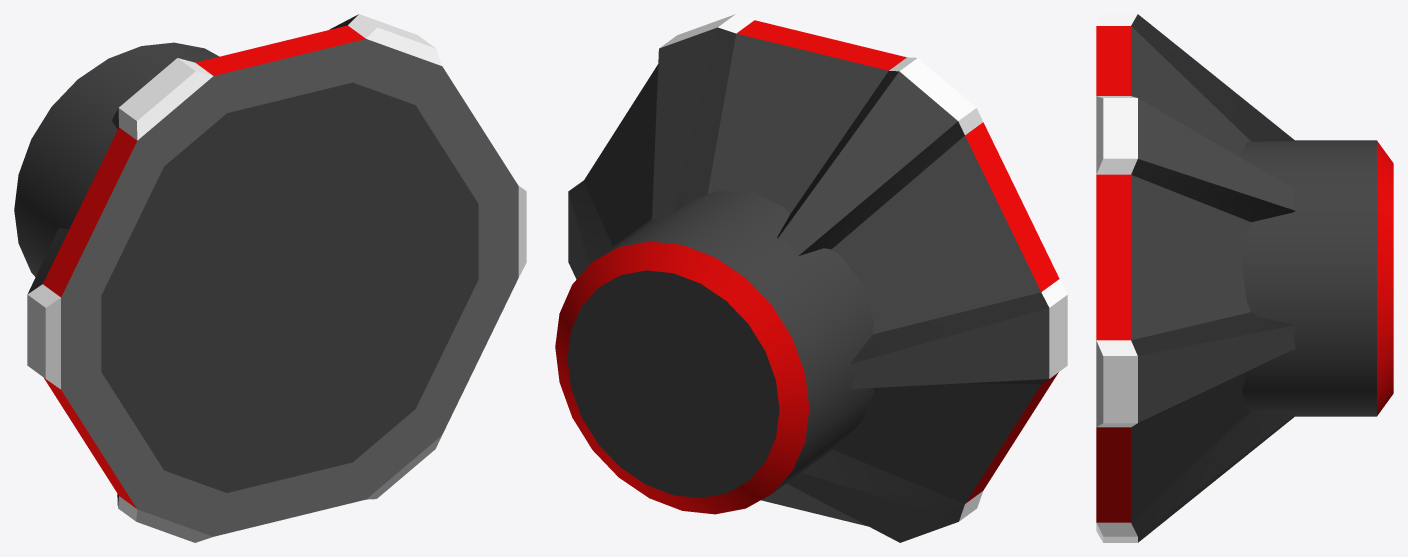
Rendered from foundation.obj.
The picture shows the model from 3 angles, left to right: view 1: azimuth 30°, elevation 25°; view 2: azimuth 150°, elevation 25°; view 3: azimuth 270°, elevation 25°; orthographic projection. The views are drawn at different scales.
Parts seen in each view (by area): view 1: Gengon001, Cylinder001; view 2: Gengon001, Cylinder001; view 3: Gengon001, Cylinder001.
Boxes of the visible parts, x1=… form: Gengon001: x1=27, y1=14, x2=526, y2=542; Cylinder001: x1=14, y1=42, x2=218, y2=276; Gengon001: x1=568, y1=14, x2=1067, y2=542; Cylinder001: x1=555, y1=191, x2=873, y2=514; Gengon001: x1=1096, y1=14, x2=1295, y2=542; Cylinder001: x1=1242, y1=140, x2=1393, y2=416.
Size of the model in its own units: 2.27 by 2.13 by 1.29.
